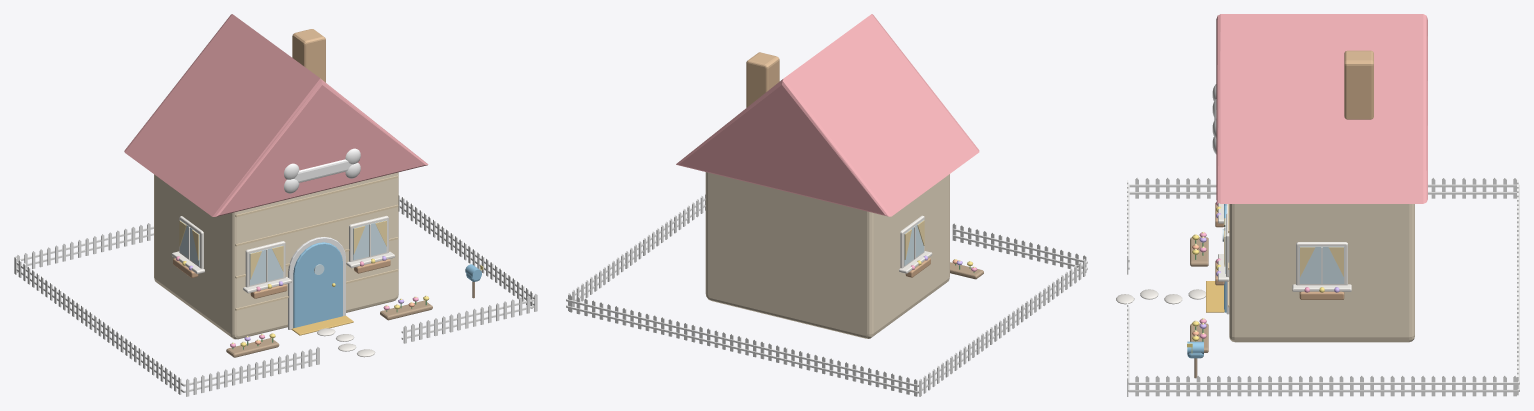
Rendered from building_pets_L07.glb.
3 renders of one model, left to right at view 1: azimuth 30°, elevation 25°; view 2: azimuth 150°, elevation 25°; view 3: azimuth 270°, elevation 25°, orthographic. The views are drawn at different scales.
Visible parts, largest first — view 1: Body, pets_L7; view 2: Body, pets_L7; view 3: Body, pets_L7.
Part boxes in pixels (x1=…): Body: x1=124, y1=14, x2=428, y2=339; pets_L7: x1=14, y1=193, x2=537, y2=396; Body: x1=676, y1=14, x2=979, y2=338; pets_L7: x1=566, y1=194, x2=1087, y2=396; Body: x1=1206, y1=14, x2=1427, y2=342; pets_L7: x1=1116, y1=178, x2=1519, y2=396.
Bounding box in the file's own units: 25.35 × 16.92 × 21.74.
